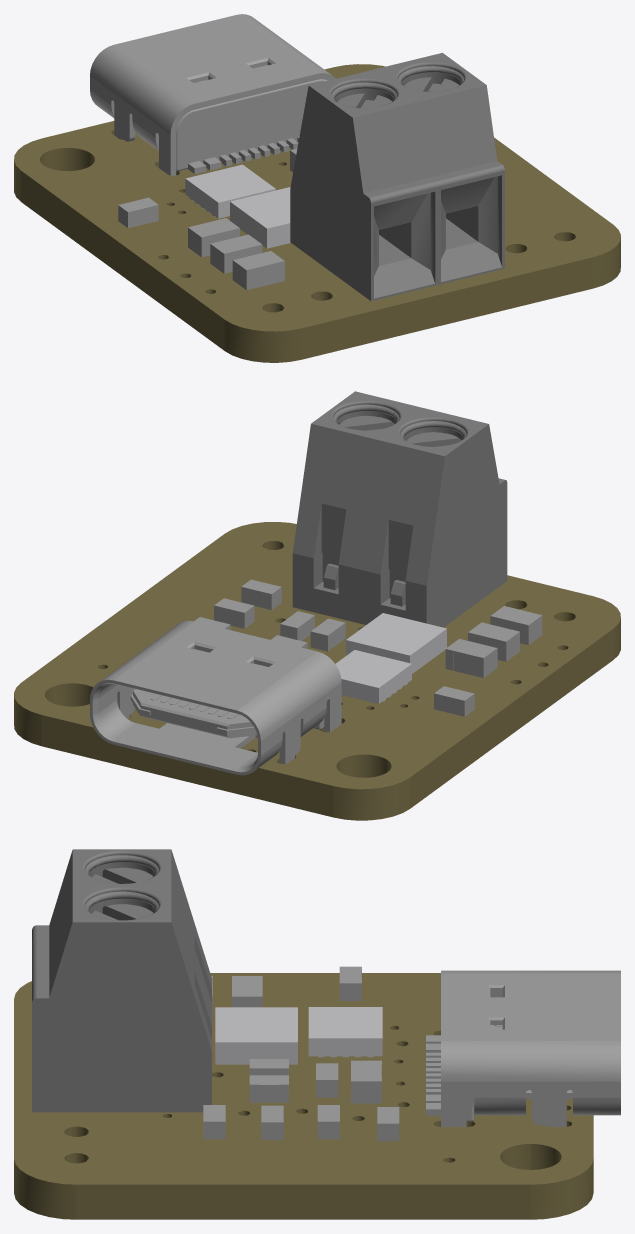
Rendered from ada-5807.glb.
3 views of the same model, one above another, from view 1: azimuth 30°, elevation 25°; view 2: azimuth 150°, elevation 25°; view 3: azimuth 270°, elevation 25° (orthographic). The views are drawn at different scales.
Parts seen in each view (by area): view 1: 0.16666666666666666_0.16666666666666666_0.08333333333333333_, 0.25_0.25_0.25_0, 0.3333333333333333_0.3333333333333333_0.3333333333333333_0, 0.5833333333333334_0.5833333333333334_0.5833333333333334_0.8; view 2: 0.16666666666666666_0.16666666666666666_0.08333333333333333_, 0.25_0.25_0.25_0, 0.3333333333333333_0.3333333333333333_0.3333333333333333_0, 0.5833333333333334_0.5833333333333334_0.5833333333333334_0.8; view 3: 0.16666666666666666_0.16666666666666666_0.08333333333333333_, 0.25_0.25_0.25_0, 0.3333333333333333_0.3333333333333333_0.3333333333333333_0, 0.5833333333333334_0.5833333333333334_0.5833333333333334_0.8.
Part boxes in pixels (x1=…): 0.16666666666666666_0.16666666666666666_0.08333333333333333_: x1=14, y1=64, x2=620, y2=362; 0.25_0.25_0.25_0: x1=290, y1=53, x2=504, y2=301; 0.3333333333333333_0.3333333333333333_0.3333333333333333_0: x1=90, y1=14, x2=335, y2=290; 0.5833333333333334_0.5833333333333334_0.5833333333333334_0.8: x1=185, y1=164, x2=290, y2=248; 0.16666666666666666_0.16666666666666666_0.08333333333333333_: x1=14, y1=522, x2=620, y2=820; 0.25_0.25_0.25_0: x1=292, y1=391, x2=507, y2=627; 0.3333333333333333_0.3333333333333333_0.3333333333333333_0: x1=90, y1=579, x2=542, y2=775; 0.5833333333333334_0.5833333333333334_0.5833333333333334_0.8: x1=335, y1=613, x2=446, y2=703; 0.16666666666666666_0.16666666666666666_0.08333333333333333_: x1=14, y1=973, x2=593, y2=1219; 0.25_0.25_0.25_0: x1=32, y1=849, x2=211, y2=1112; 0.3333333333333333_0.3333333333333333_0.3333333333333333_0: x1=203, y1=966, x2=620, y2=1141; 0.5833333333333334_0.5833333333333334_0.5833333333333334_0.8: x1=215, y1=1007, x2=382, y2=1064.
Bounding box in the file's own units: 2.03 × 1.21 × 2.46.
